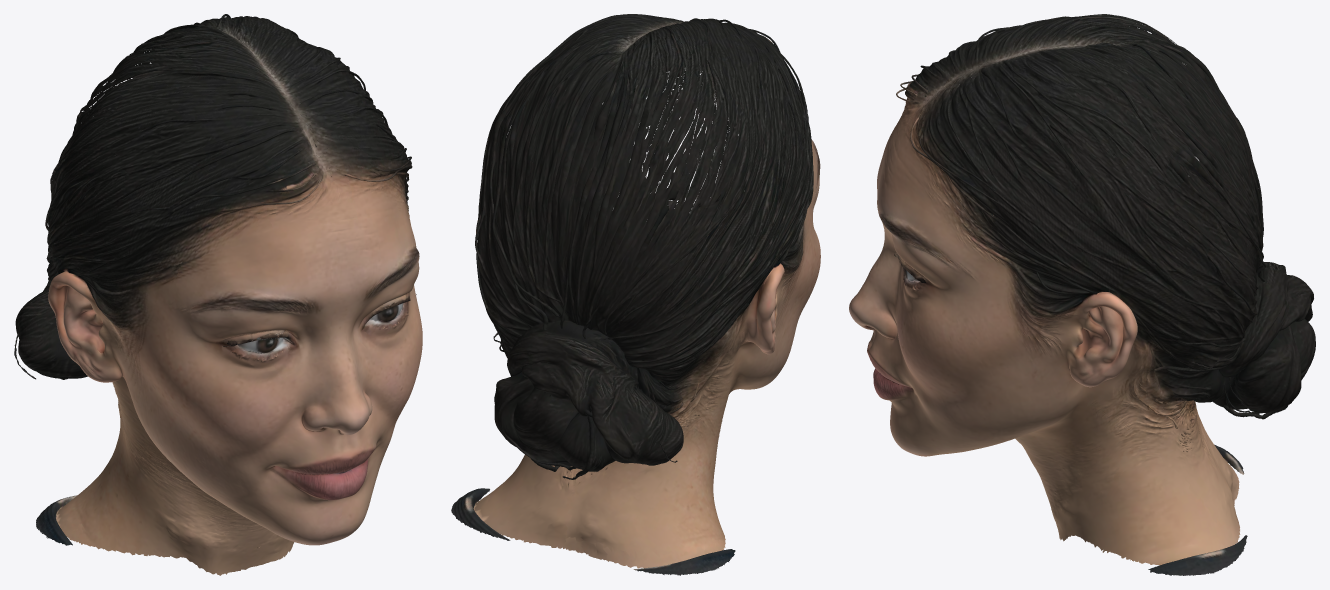
Rendered from skin_f_2k.glb.
3 renders of one model, left to right at view 1: azimuth 30°, elevation 25°; view 2: azimuth 150°, elevation 25°; view 3: azimuth 270°, elevation 25°, orthographic. The views are drawn at different scales.
Visible parts, largest first — view 1: Skin; view 2: Skin; view 3: Skin.
Part boxes in pixels (x1,y1,x2,y2): Skin: (14, 14, 422, 575); Skin: (451, 14, 820, 575); Skin: (849, 14, 1315, 575).
Bounding box in the file's own units: 0.1721 × 0.2681 × 0.229.
Materials: 1 (1 with a texture image).
